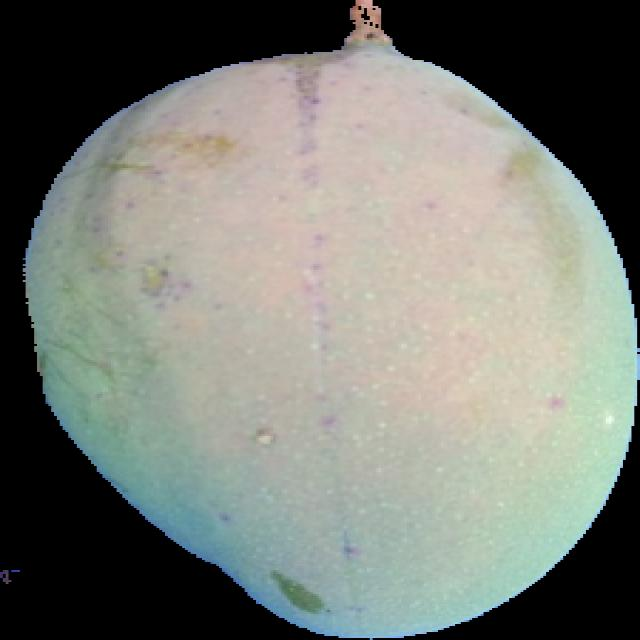Mango-sano: (23, 0, 639, 639)
